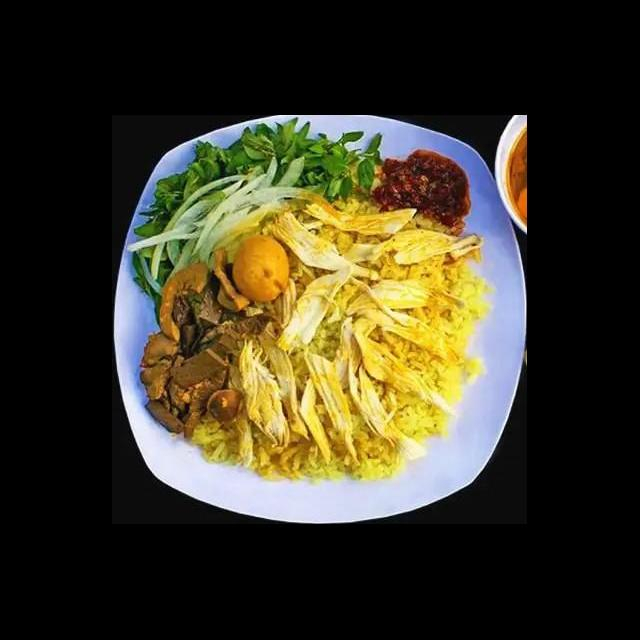com: (376, 248, 494, 450), (250, 428, 410, 484), (188, 414, 246, 469)
rau ram: (190, 116, 386, 208), (132, 166, 195, 310)
thit ga: (328, 310, 462, 464), (255, 207, 382, 284), (238, 320, 310, 450), (272, 262, 356, 358), (294, 348, 362, 464), (342, 226, 487, 268), (344, 278, 470, 322), (300, 198, 420, 240)
trung: (230, 232, 294, 306)
